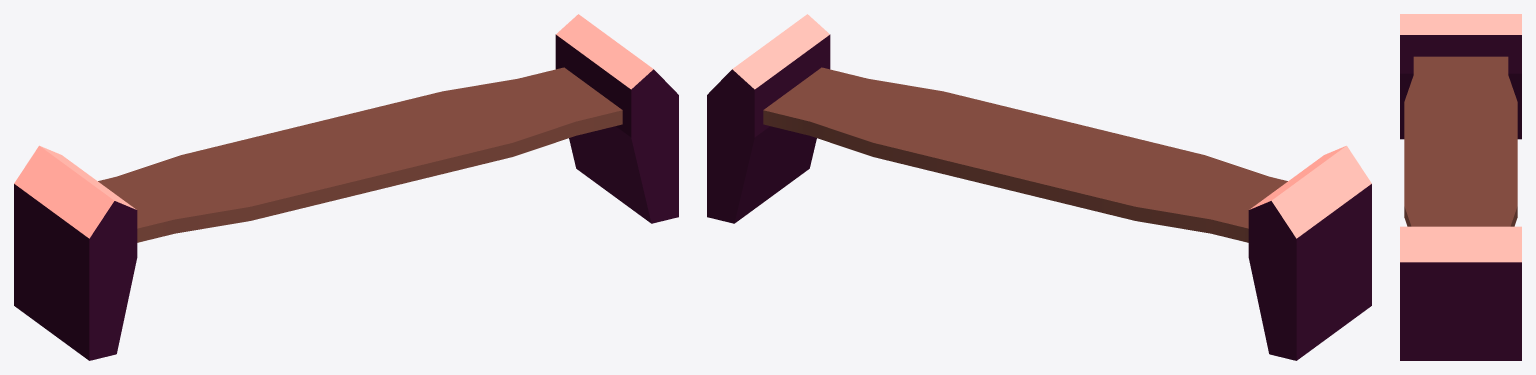
File: benchA.fbx
The picture shows the model from 3 angles, left to right: view 1: azimuth 30°, elevation 25°; view 2: azimuth 150°, elevation 25°; view 3: azimuth 270°, elevation 25°; orthographic projection. The views are drawn at different scales.
Parts seen in each view (by area): view 1: SM_Prop_BenchSeat_01; view 2: SM_Prop_BenchSeat_01; view 3: SM_Prop_BenchSeat_01.
Boxes of the visible parts, x1,y1,x2,y2 form: SM_Prop_BenchSeat_01: [14, 14, 678, 360]; SM_Prop_BenchSeat_01: [707, 14, 1371, 360]; SM_Prop_BenchSeat_01: [1400, 14, 1521, 360].
Size of the model in its own units: 273 by 68.18 by 60.43.
